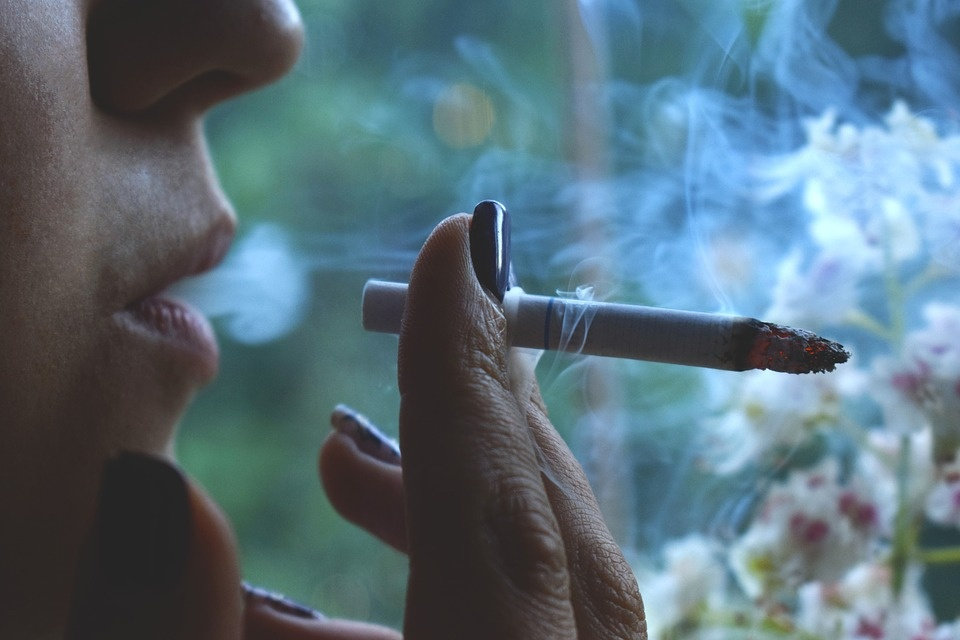sigaretta: (369, 274, 824, 377)
